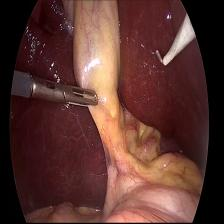Grasper: (15, 69, 98, 111)
Hook: (154, 11, 200, 70)
